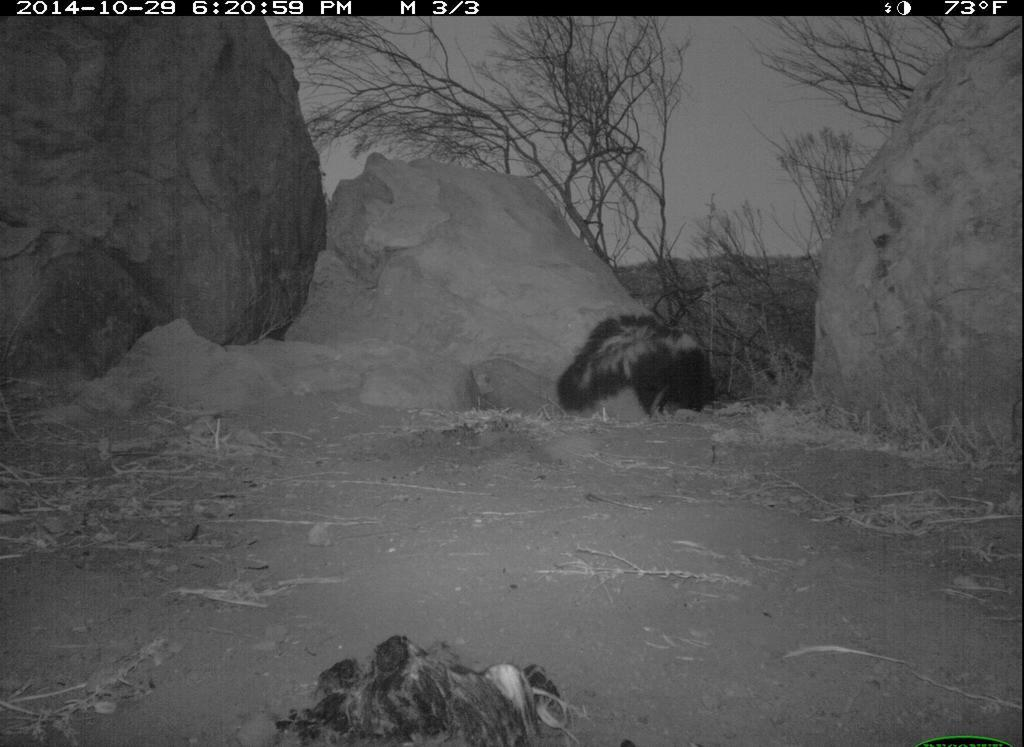skunk: (545, 304, 733, 432)
